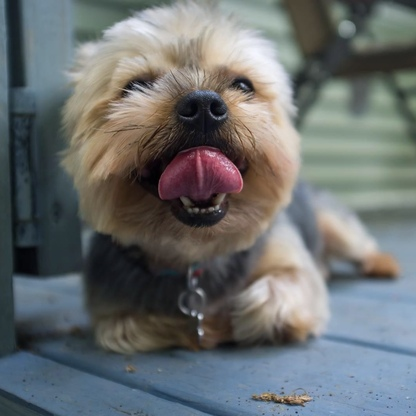yorkshire: (59, 4, 401, 350)
